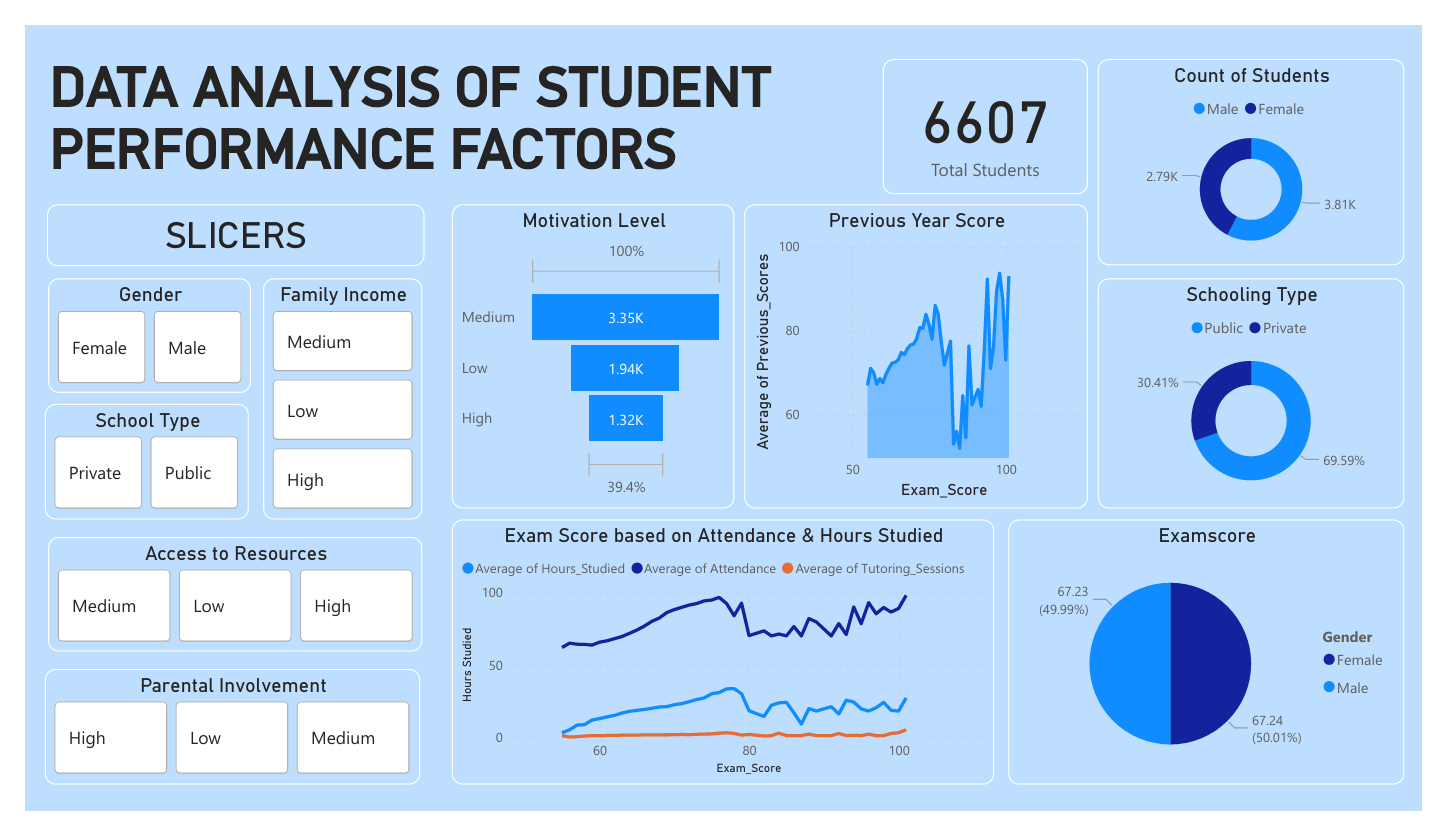

The dashboard page shown, as its layout file describes it:
{"tool":"powerbi","page":{"name":"Page 1","canvas":[1280,720],"ordinal":0},"visuals":[{"type":"pieChart","title":"Examscore","fields":{"Y":["Avg(StudentPerformanceFactors.Exam_Score)"],"Category":["StudentPerformanceFactors.Gender"]},"box":[900.6,452.8,363.2,242.9],"z":0},{"type":"donutChart","title":"Schooling Type","fields":{"Category":["StudentPerformanceFactors.School_Type"],"Y":["CountNonNull(StudentPerformanceFactors.School_Type)"]},"box":[982.8,231.9,281,211],"z":1000},{"type":"textbox","box":[18.4,22.1,757.1,132.5],"z":2000},{"type":"donutChart","title":"Count of Students","fields":{"Y":["CountNonNull(StudentPerformanceFactors.Gender)"],"Category":["StudentPerformanceFactors.Gender"]},"box":[982.8,30.7,281,189],"z":3000},{"type":"card","fields":{"Values":["CountNonNull(StudentPerformanceFactors.Gender)"]},"box":[786.2,31.2,187.5,123.8],"z":4000},{"type":"funnel","title":"Motivation Level","fields":{"Y":["CountNonNull(StudentPerformanceFactors.Motivation_Level)"],"Category":["StudentPerformanceFactors.Motivation_Level"]},"box":[391.4,164.4,258.9,278.5],"z":5000},{"type":"lineChart","title":"Exam Score based on Attendance & Hours Studied","fields":{"Category":["StudentPerformanceFactors.Exam_Score"],"Y":["Avg(StudentPerformanceFactors.Hours_Studied)","Avg(StudentPerformanceFactors.Attendance)","Avg(StudentPerformanceFactors.Tutoring_Sessions)"]},"box":[391.4,452.8,496.9,242.9],"z":6000},{"type":"advancedSlicerVisual","fields":{"Values":["StudentPerformanceFactors.Gender"]},"box":[20.9,231.9,186.5,105.5],"z":7000},{"type":"textbox","box":[19.6,164.4,346,56.4],"z":8000},{"type":"advancedSlicerVisual","fields":{"Values":["StudentPerformanceFactors.School_Type"]},"box":[18.4,347.2,186.5,105.5],"z":9000},{"type":"advancedSlicerVisual","fields":{"Values":["StudentPerformanceFactors.Parental_Involvement"]},"box":[18.4,590.2,343.6,105.5],"z":10000},{"type":"advancedSlicerVisual","fields":{"Values":["StudentPerformanceFactors.Access_to_Resources"]},"box":[20.9,468.7,343.6,105.5],"z":11000},{"type":"advancedSlicerVisual","fields":{"Values":["StudentPerformanceFactors.Family_Income"]},"box":[218.4,231.9,146,220.9],"z":12000},{"type":"areaChart","title":"Previous Year Score","fields":{"Category":["StudentPerformanceFactors.Exam_Score"],"Y":["Avg(StudentPerformanceFactors.Previous_Scores)"]},"box":[658.9,164.4,315.3,278.5],"z":13000}]}

Visuals, with their boxes in screenshot pixels (x1, y1, x2, y2), scaled from the page's 1280x720 canvas onto the 1445x836 screenshot:
"Examscore" pieChart: BBox(1017, 526, 1427, 808)
"Schooling Type" donutChart: BBox(1109, 269, 1427, 514)
textbox: BBox(21, 26, 875, 180)
"Count of Students" donutChart: BBox(1109, 36, 1427, 255)
card - CountNonNull(StudentPerformanceFactors.Gender): BBox(888, 36, 1099, 180)
"Motivation Level" funnel: BBox(442, 191, 734, 514)
"Exam Score based on Attendance & Hours Studied" lineChart: BBox(442, 526, 1003, 808)
advancedSlicerVisual - StudentPerformanceFactors.Gender: BBox(24, 269, 234, 392)
textbox: BBox(22, 191, 413, 256)
advancedSlicerVisual - StudentPerformanceFactors.School_Type: BBox(21, 403, 231, 526)
advancedSlicerVisual - StudentPerformanceFactors.Parental_Involvement: BBox(21, 685, 409, 808)
advancedSlicerVisual - StudentPerformanceFactors.Access_to_Resources: BBox(24, 544, 411, 667)
advancedSlicerVisual - StudentPerformanceFactors.Family_Income: BBox(247, 269, 411, 526)
"Previous Year Score" areaChart: BBox(744, 191, 1100, 514)
